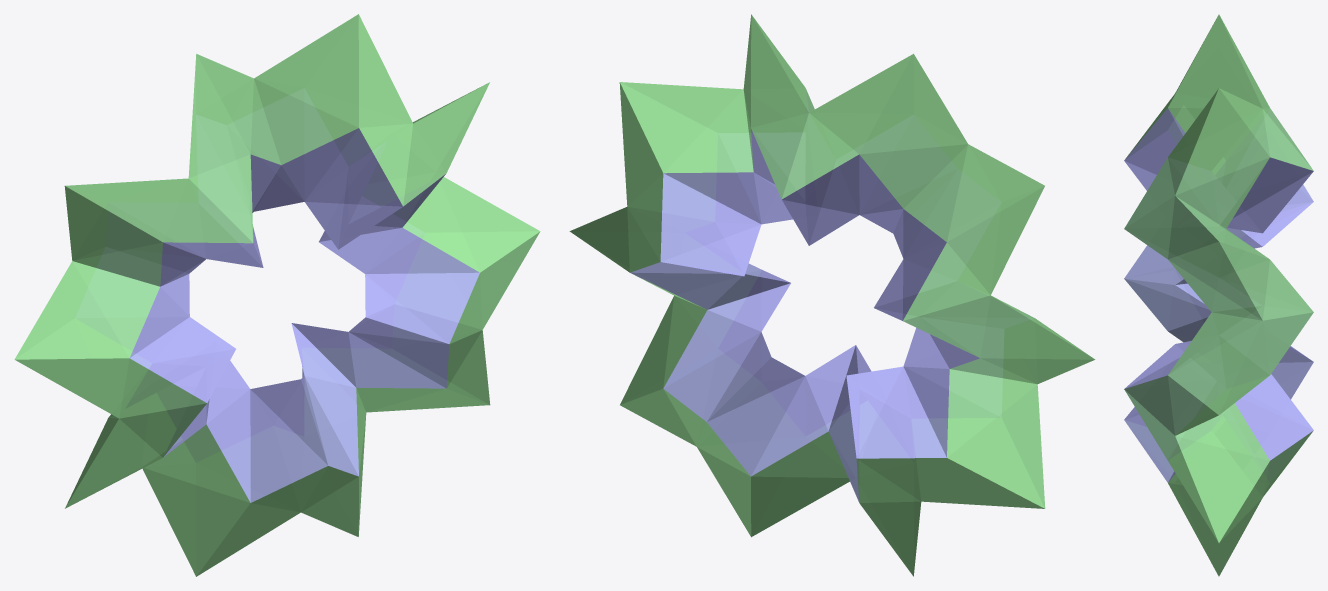
Rendered from Regular10TetragonalStarToroidSin.obj.
3 views of the same model, side by side, from view 1: azimuth 30°, elevation 25°; view 2: azimuth 150°, elevation 25°; view 3: azimuth 270°, elevation 25° (orthographic). The views are drawn at different scales.
Bounding box in the file's own units: 3.88 × 3.69 × 1.3.
